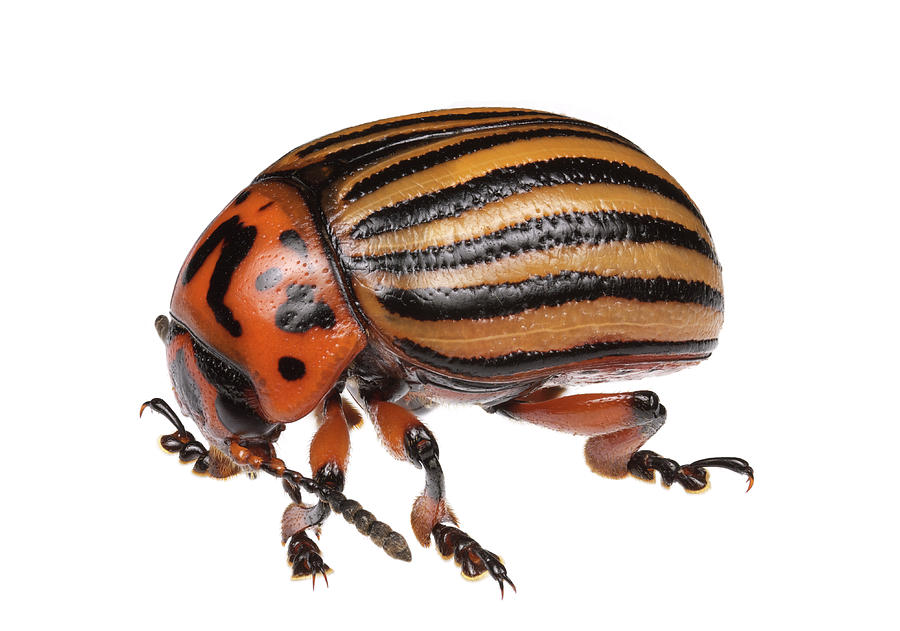hrosc: (155, 92, 755, 561)
